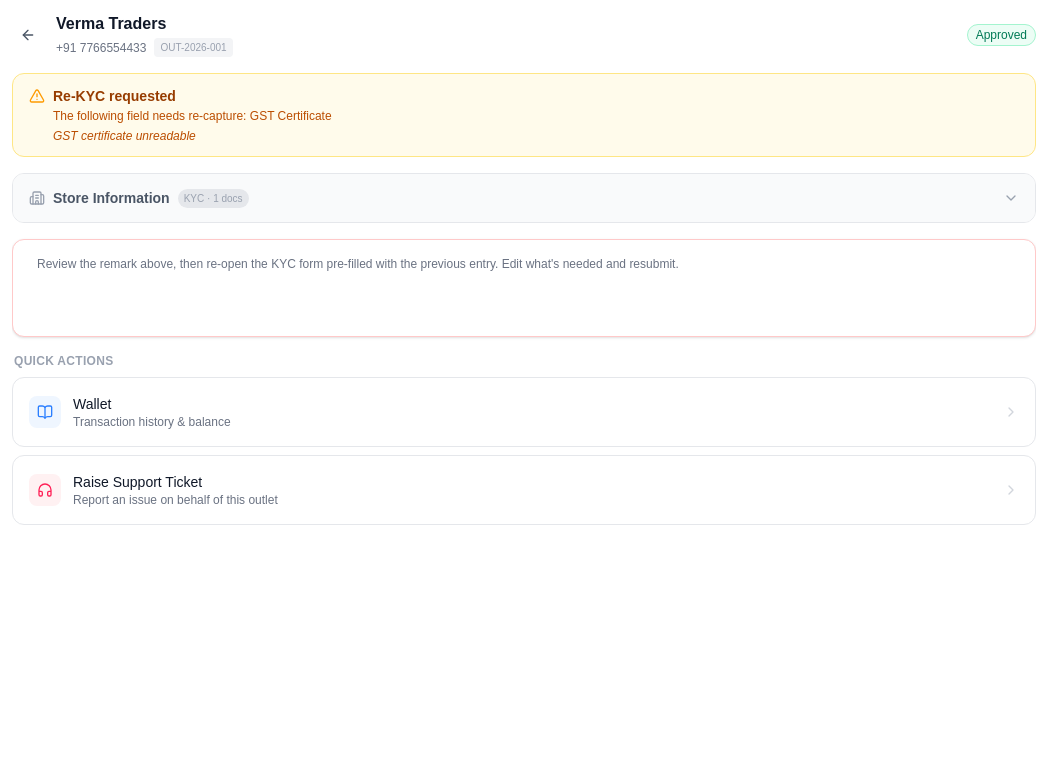
Test: REKYC-SALES — sales KYC detail re-KYC banner + re-entry › amber-badges a flagged non-photo document row ("Needs re-capture") for the approver
The width and height of the screenshot is (1048, 780).
Note: Expand the collapsible Store Information section to reveal the document checklist.
Click the text "Store Information": [111, 198] box [53,188,170,208]
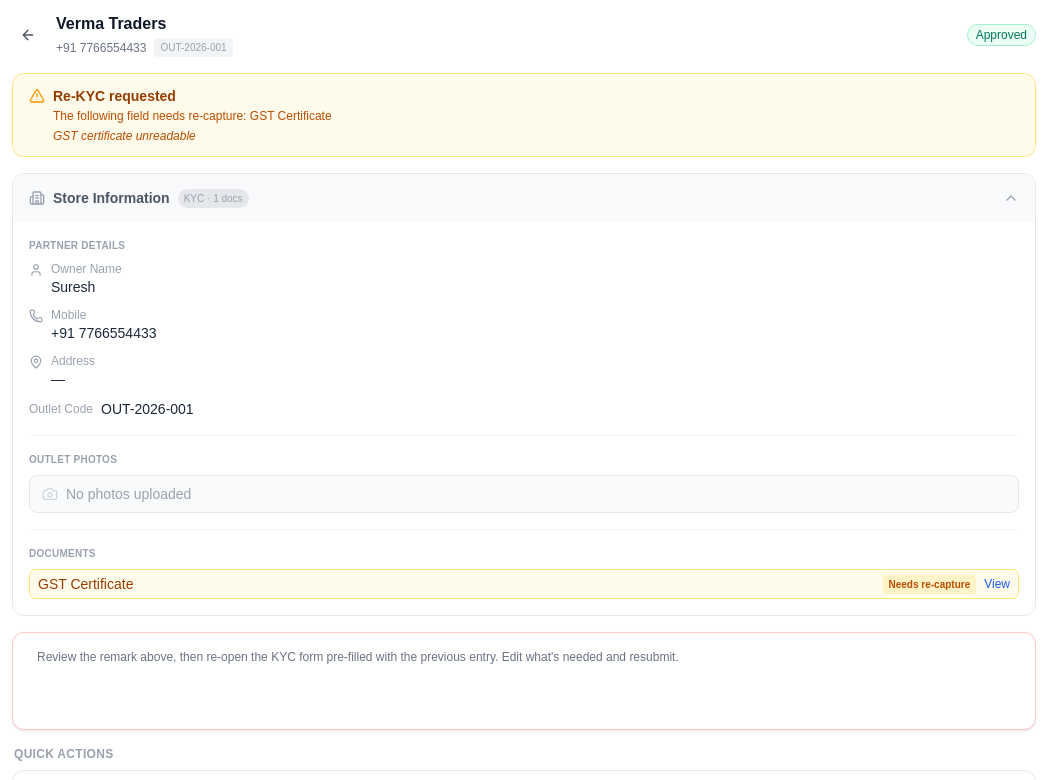
Expected: the element with test id "rekyc-flagged-doc-row" shows "GST Certificate", [38,576,133,592]
Expected: the element with test id "rekyc-flagged-doc-row" shows "Needs re-capture", [888,578,970,590]
